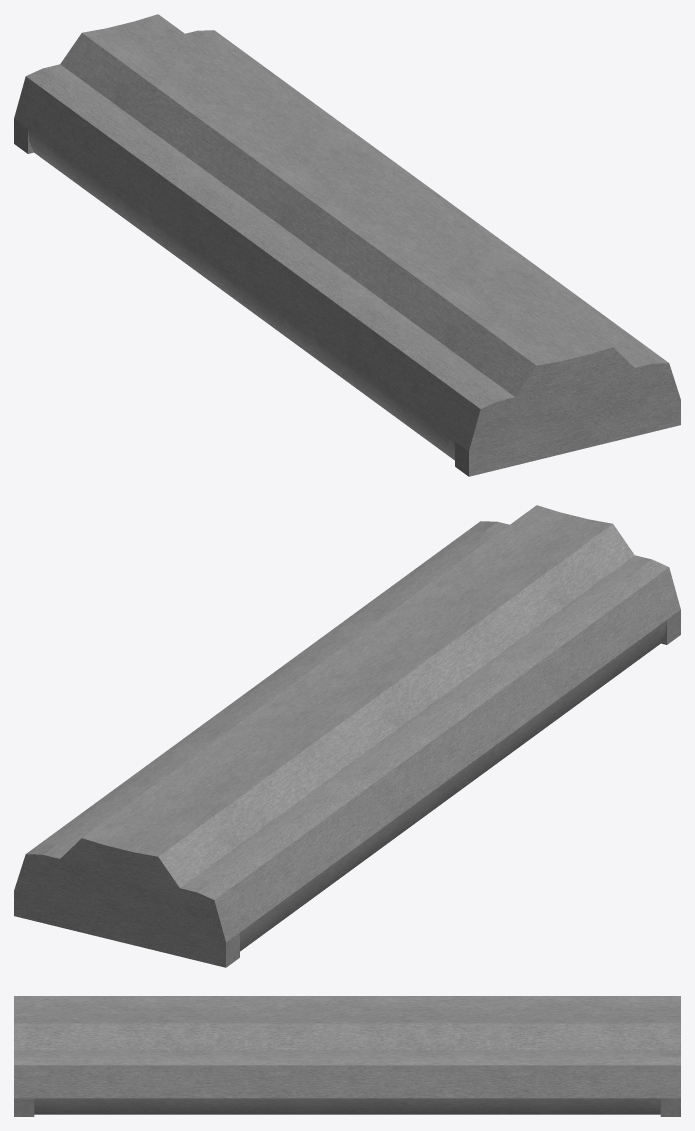
Rendered from lights.fbx.
The picture shows the model from 3 angles, top to bottom: view 1: azimuth 30°, elevation 25°; view 2: azimuth 150°, elevation 25°; view 3: azimuth 270°, elevation 25°; orthographic projection. The views are drawn at different scales.
Visible parts, largest first — view 1: pCube74; view 2: pCube74; view 3: pCube74.
Boxes of the visible parts, left/top/right/bottom form: pCube74: left=14, top=14, right=680, bottom=476; pCube74: left=14, top=505, right=680, bottom=967; pCube74: left=14, top=996, right=680, bottom=1116.
Size of the model in its own units: 2.15 by 0.9888 by 7.98.
Materials: 2 (1 with a texture image).
